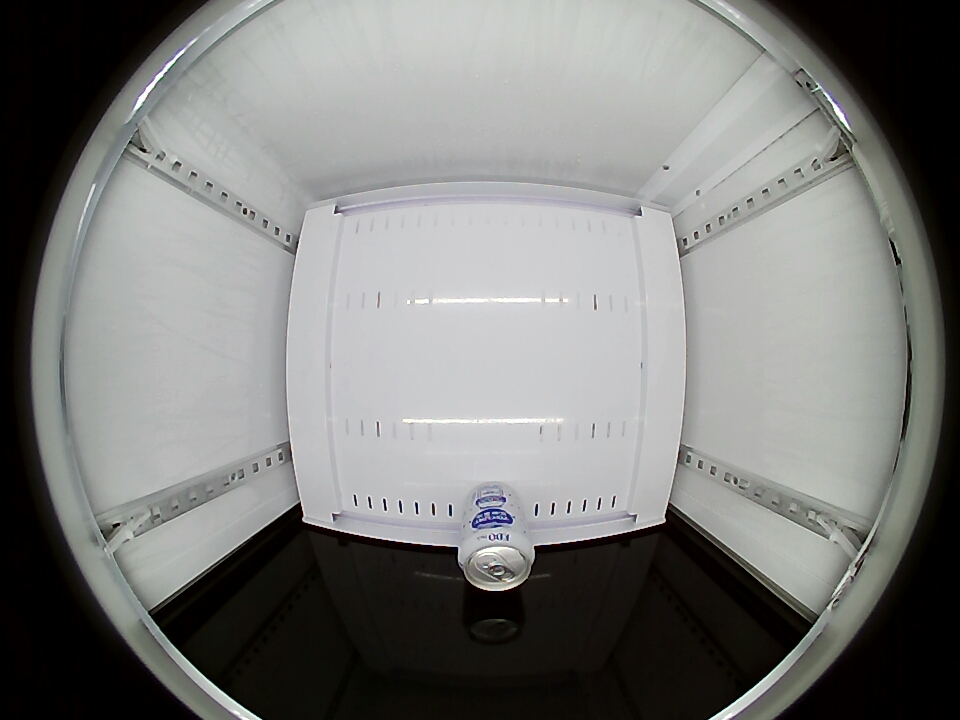rusuanjunqishui: (457, 522, 535, 591)
